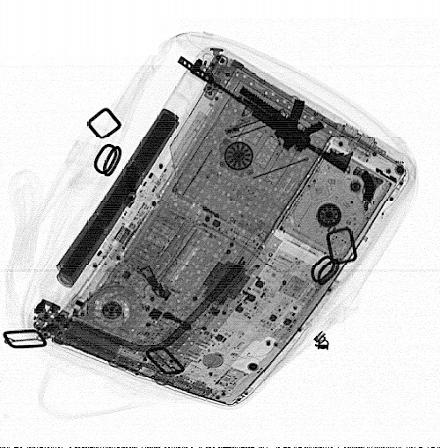Gun: (176, 55, 357, 175)
